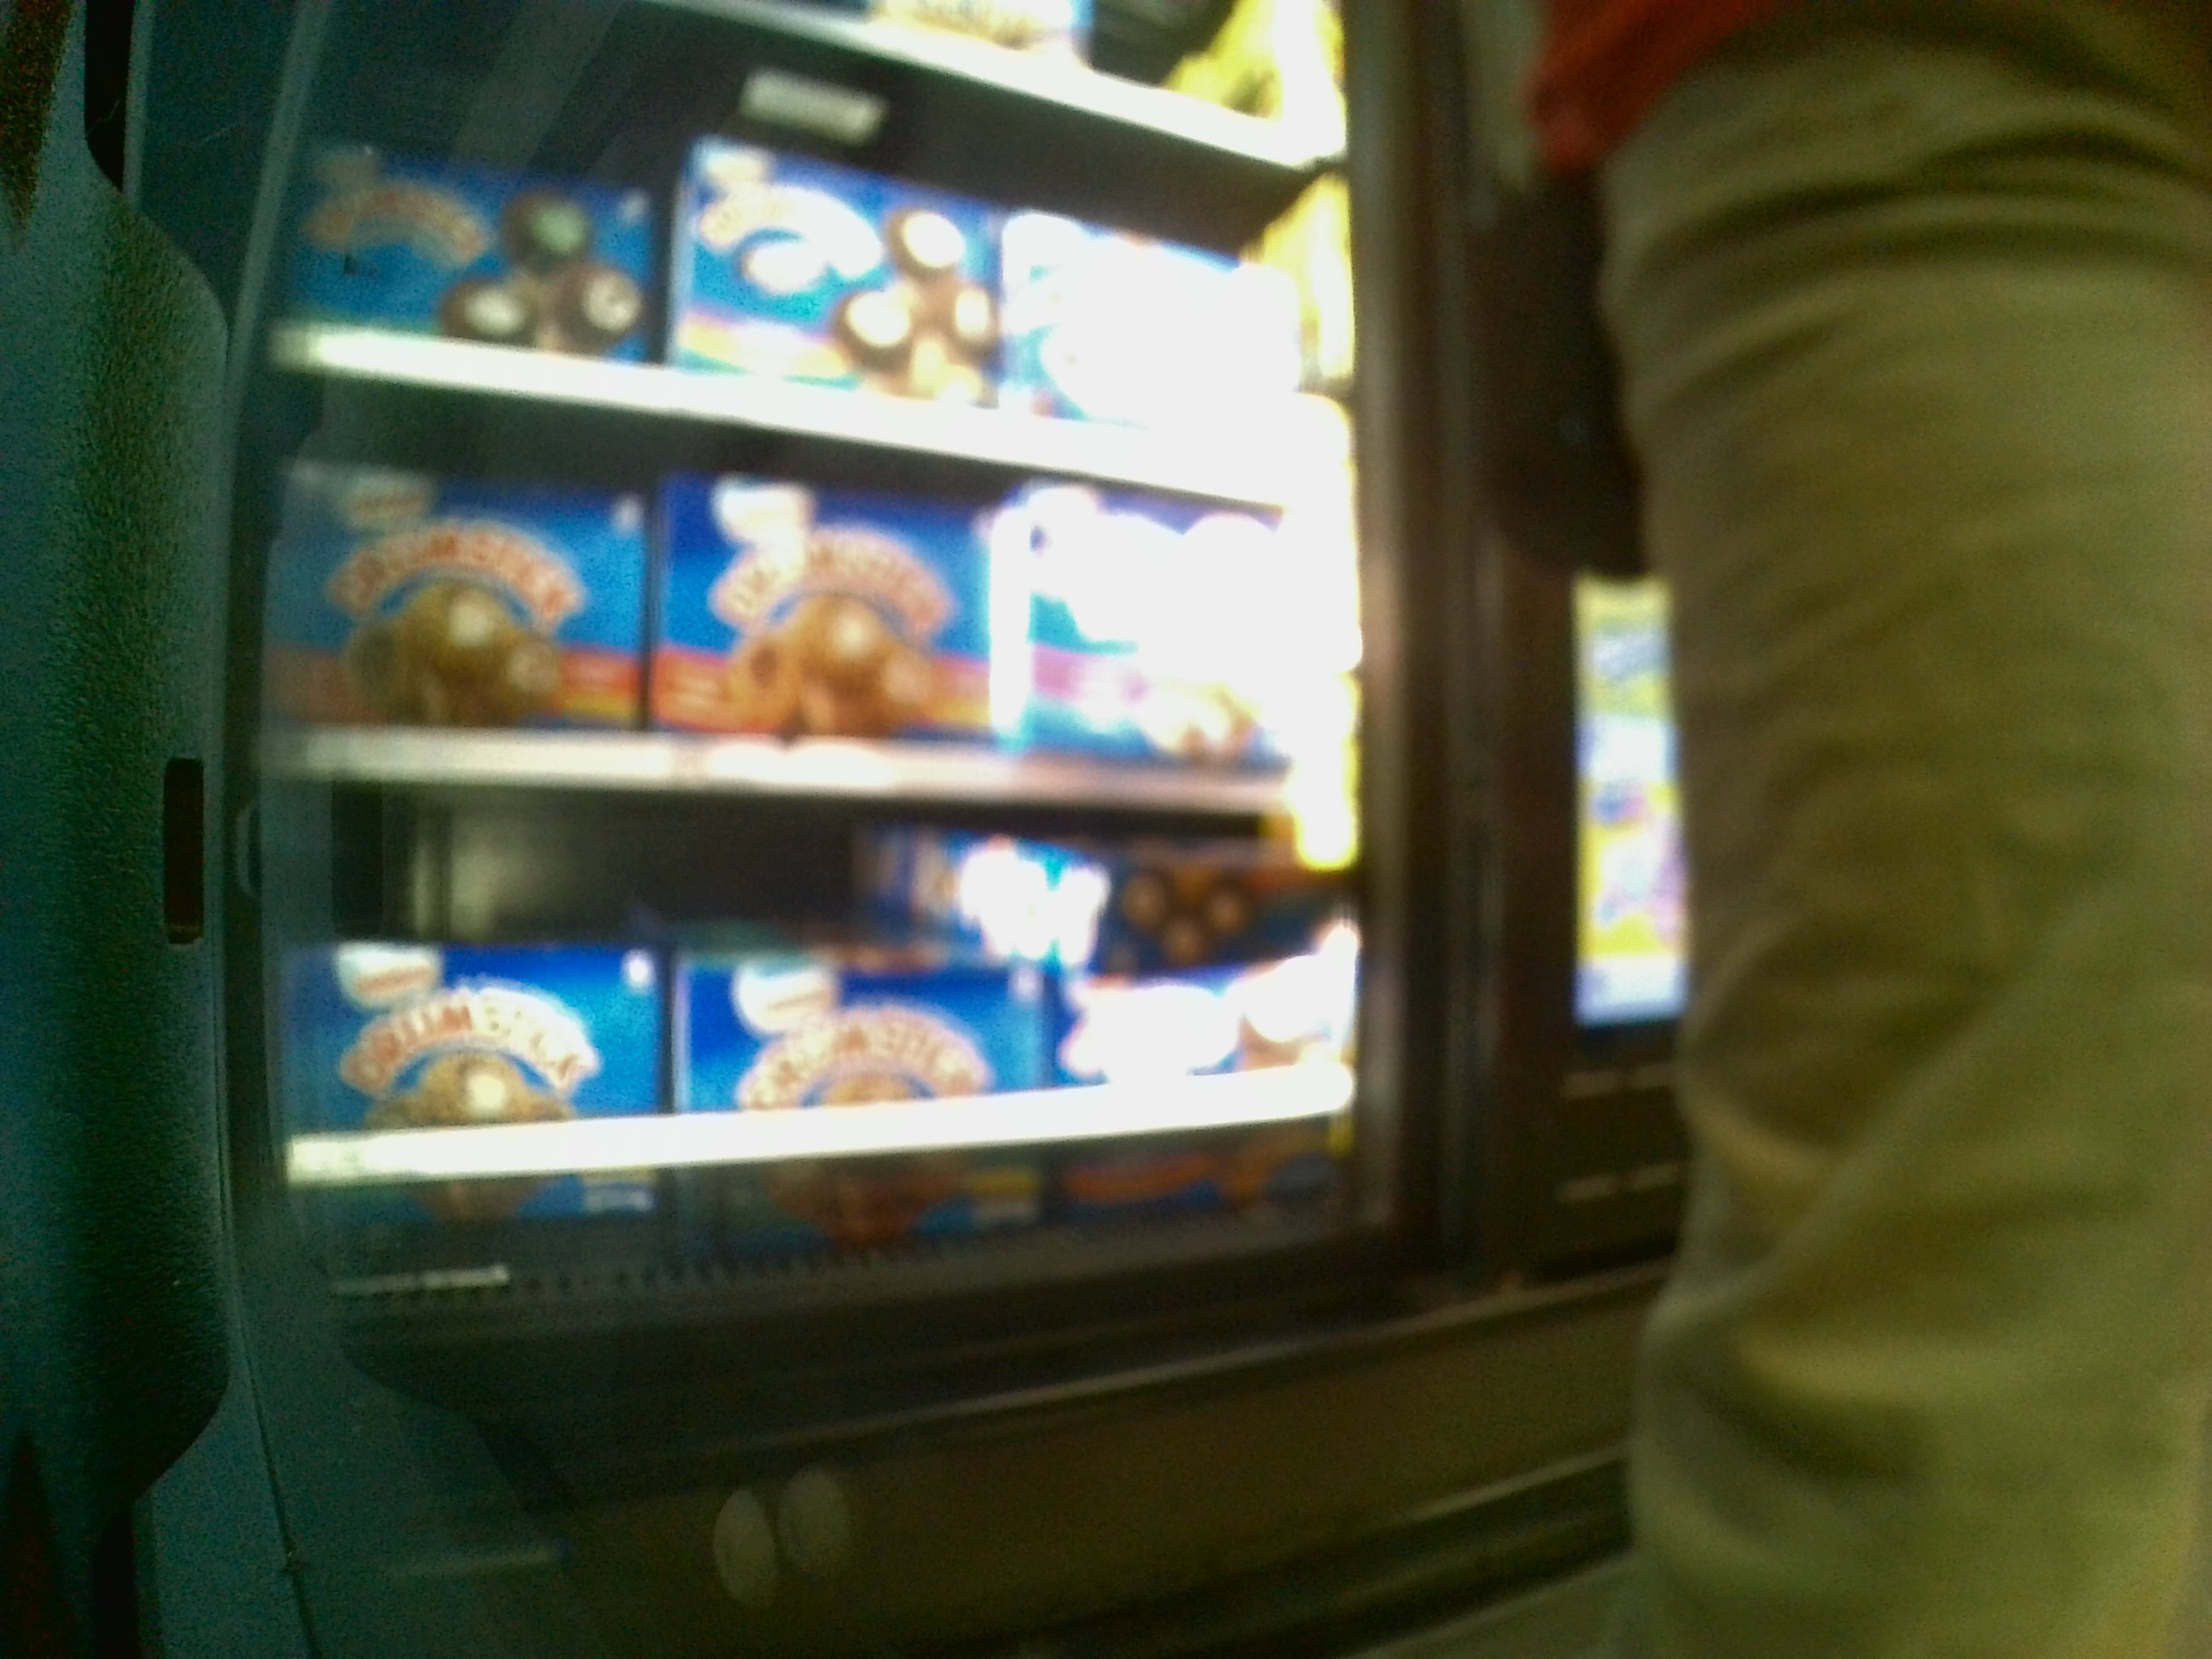shelf: (300, 788, 1331, 1239), (293, 443, 1320, 805)
